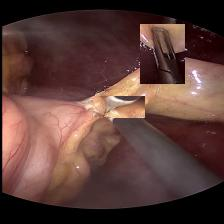Grasper: (139, 24, 184, 84)
Hook: (92, 96, 144, 118)
